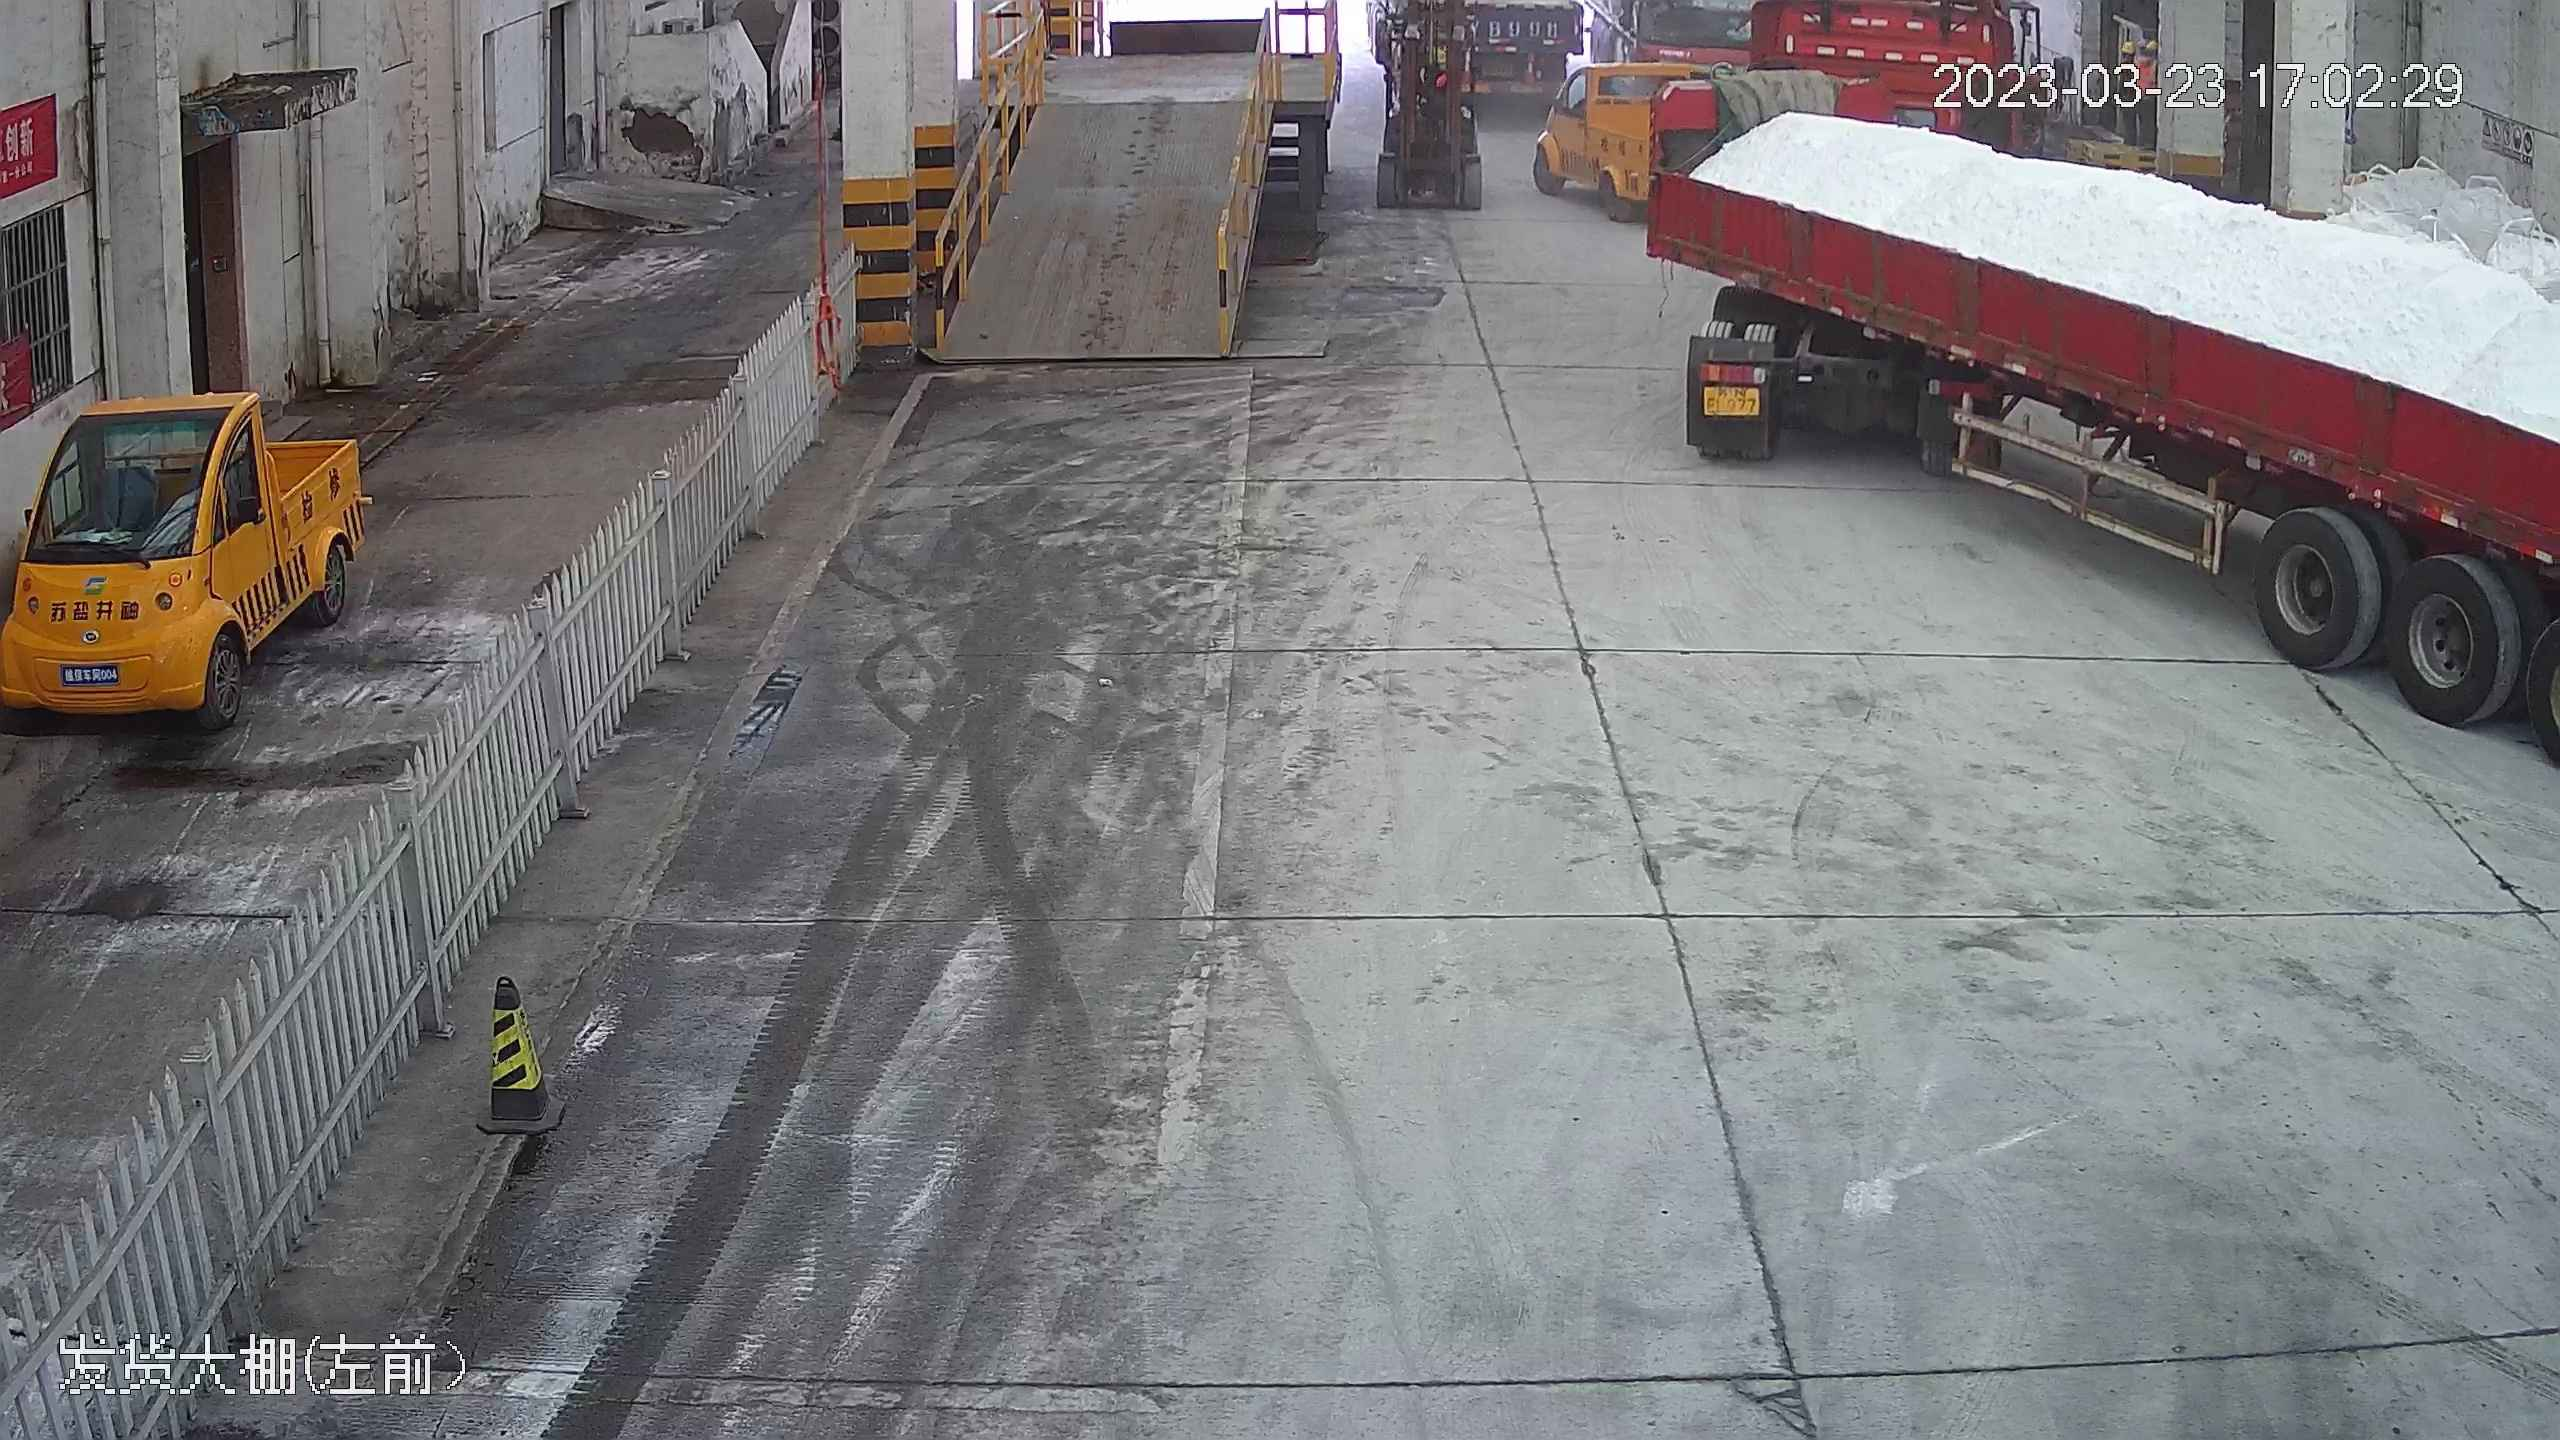truck: (1632, 2, 2560, 842)
